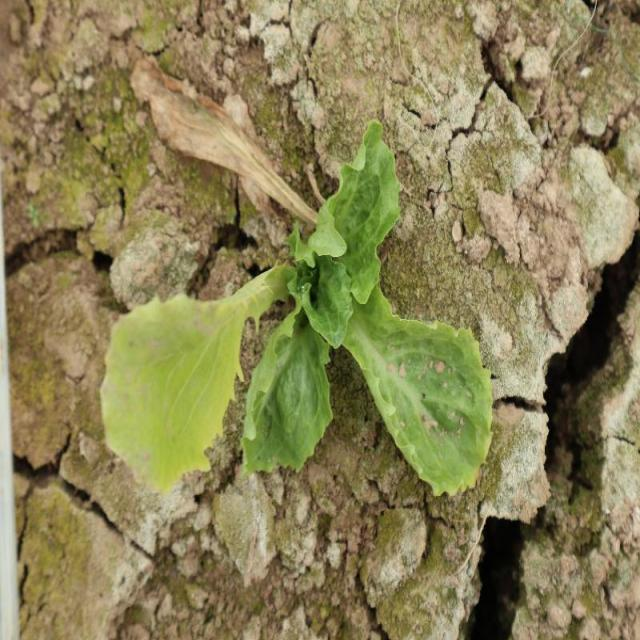crop: (97, 116, 497, 501)
